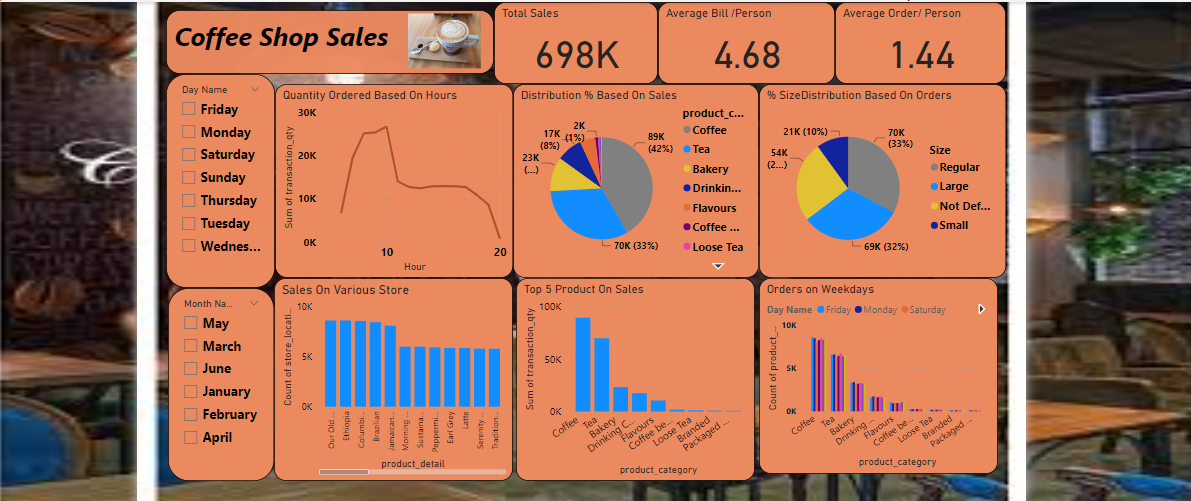

Layout of this report page (visuals, bound fields, positions):
{"tool":"powerbi","page":{"name":"Page 1","canvas":[1280,720],"ordinal":0},"visuals":[{"type":"textbox","box":[41.8,11.5,472.3,92.2],"z":0},{"type":"slicer","fields":{"Values":["Transactions.Day Name"]},"box":[41.8,103.7,157,308.2],"z":1000},{"type":"slicer","fields":{"Values":["Transactions.Month Name"]},"box":[44.6,411.8,152.6,277.9],"z":2000},{"type":"pieChart","title":"Distribution % Based On Sales","fields":{"Category":["Transactions.product_category"],"Y":["Sum(Transactions.transaction_qty)"]},"box":[541.4,118.1,354.2,279.4],"z":3000},{"type":"pieChart","title":"% SizeDistribution Based On Orders","fields":{"Category":["Transactions.Size"],"Y":["Sum(Transactions.transaction_qty)"]},"box":[895.7,118.1,355.7,279.4],"z":4000},{"type":"lineChart","title":"Quantity Ordered Based On Hours","fields":{"Y":["Sum(Transactions.transaction_qty)"],"Category":["Transactions.Hour"]},"box":[198.7,118.1,342.7,279.4],"z":5000},{"type":"card","title":"Total Sales","fields":{"Values":["Sum(Transactions.Total_bill)"]},"box":[514.1,0,236.2,118.1],"z":6000},{"type":"card","title":"Average Bill /Person","fields":{"Values":["Avg(Transactions.Total_bill)"]},"box":[750.2,0,254.9,118.1],"z":7000},{"type":"card","title":"Average Order/ Person","fields":{"Values":["Avg(Transactions.transaction_qty)"]},"box":[1005.1,0,246.2,118.1],"z":8000},{"type":"clusteredColumnChart","title":"Sales On Various Store","fields":{"Category":["Transactions.product_detail"],"Y":["CountNonNull(Transactions.store_location)"]},"box":[197.3,397.4,344.2,292.3],"z":9000},{"type":"clusteredColumnChart","title":"Top 5 Product On Sales","fields":{"Category":["Transactions.product_category"],"Y":["Sum(Transactions.transaction_qty)"]},"box":[545.8,397.4,344.2,292.3],"z":10000},{"type":"clusteredColumnChart","title":"Orders on Weekdays","fields":{"Series":["Transactions.Day Name"],"Y":["CountNonNull(Transactions.product_category)"],"Category":["Transactions.product_category"]},"box":[895.7,397.4,344.2,282.2],"z":11000},{"type":"image","box":[344.2,11.5,197.3,89.3],"z":11001}]}

Visuals, with their boxes in screenshot pixels (x1, y1, x2, y2):
textbox: bbox(165, 8, 490, 71)
slicer - Transactions.Day Name: bbox(165, 71, 273, 283)
slicer - Transactions.Month Name: bbox(167, 283, 272, 475)
"Distribution % Based On Sales" pieChart: bbox(509, 81, 753, 274)
"% SizeDistribution Based On Orders" pieChart: bbox(753, 81, 998, 274)
"Quantity Ordered Based On Hours" lineChart: bbox(273, 81, 509, 274)
"Total Sales" card: bbox(490, 0, 653, 81)
"Average Bill /Person" card: bbox(653, 0, 828, 81)
"Average Order/ Person" card: bbox(828, 0, 998, 81)
"Sales On Various Store" clusteredColumnChart: bbox(272, 273, 509, 475)
"Top 5 Product On Sales" clusteredColumnChart: bbox(512, 273, 749, 475)
"Orders on Weekdays" clusteredColumnChart: bbox(753, 273, 990, 468)
image: bbox(373, 8, 509, 69)
